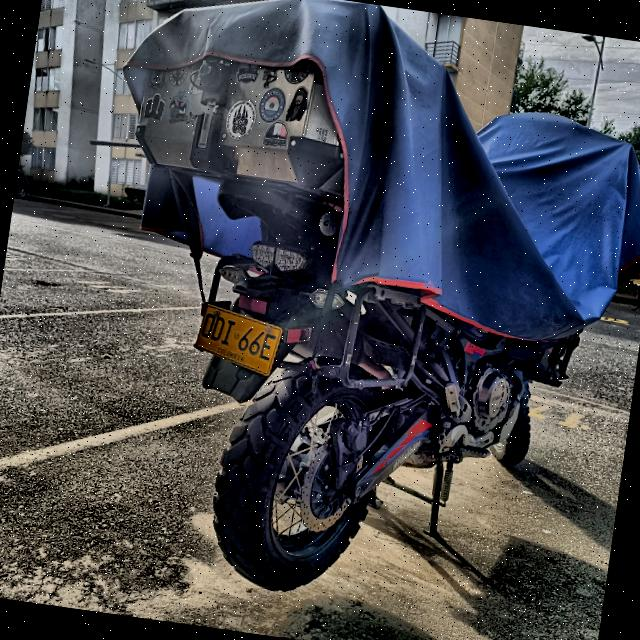plate: (196, 305, 281, 375)
